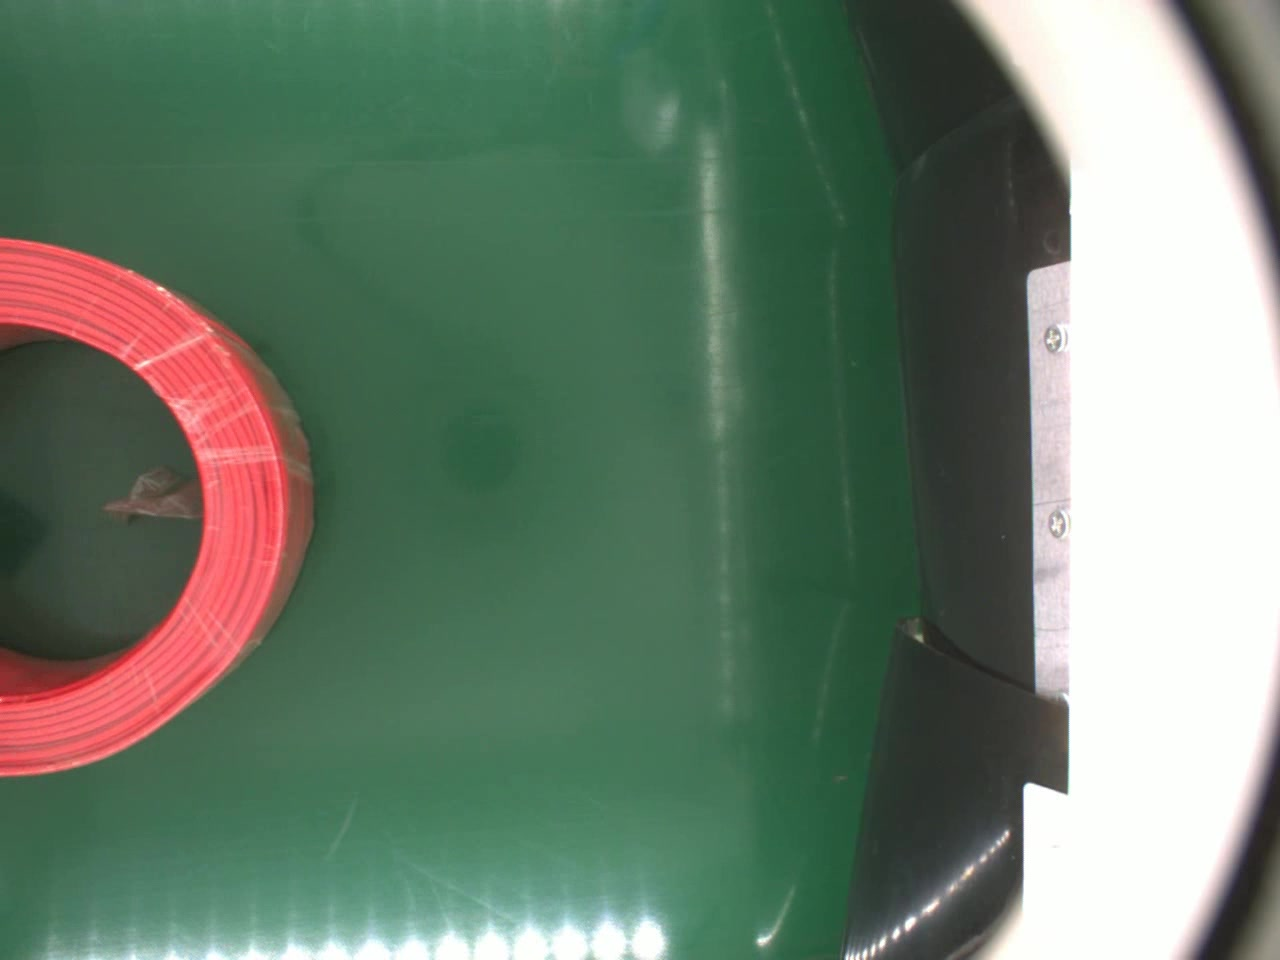red: (0, 239, 311, 782)
